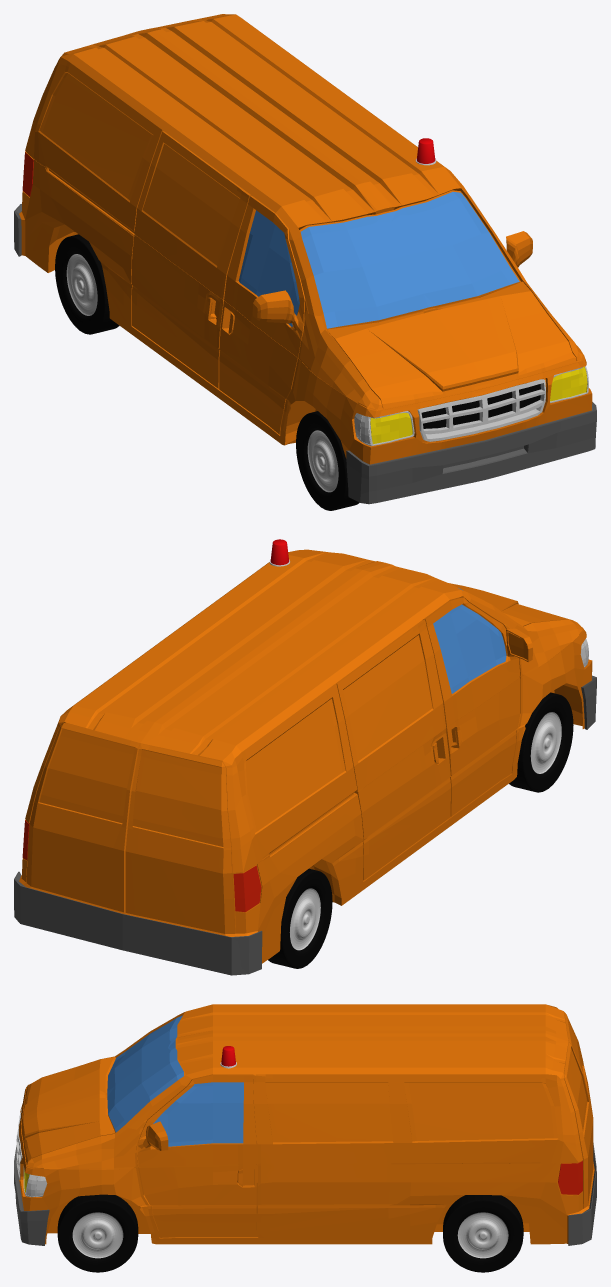
File: camioneta.fbx
The picture shows the model from 3 angles, top to bottom: view 1: azimuth 30°, elevation 25°; view 2: azimuth 150°, elevation 25°; view 3: azimuth 270°, elevation 25°; orthographic projection. The views are drawn at different scales.
Parts seen in each view (by area): view 1: Camioneta.000_Circle.008; view 2: Camioneta.000_Circle.008; view 3: Camioneta.000_Circle.008.
Part boxes in pixels (bbox=[...]): Camioneta.000_Circle.008: bbox=[14, 14, 596, 510]; Camioneta.000_Circle.008: bbox=[14, 539, 596, 975]; Camioneta.000_Circle.008: bbox=[14, 1004, 596, 1272].
Bounding box in the file's own units: 435 × 394 × 997.
